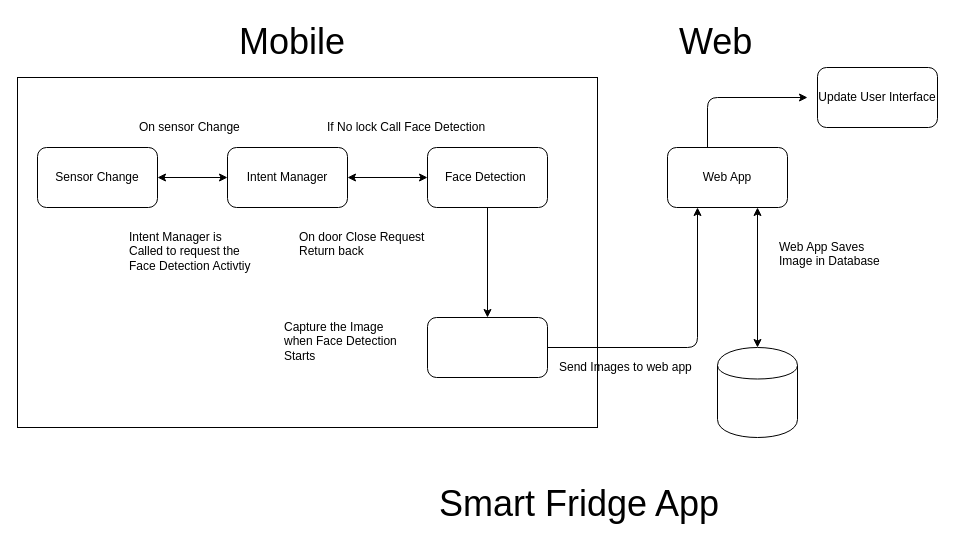
Some shapes in this 955 by 542 pixel diagram are drawn without their labels. The shapes that lost their labels are listed below. From the top down, each one's centre as x and y in pixels, then its label:
At point 487,347: "Image Capture & Upload".
At point 757,392: "Database".
